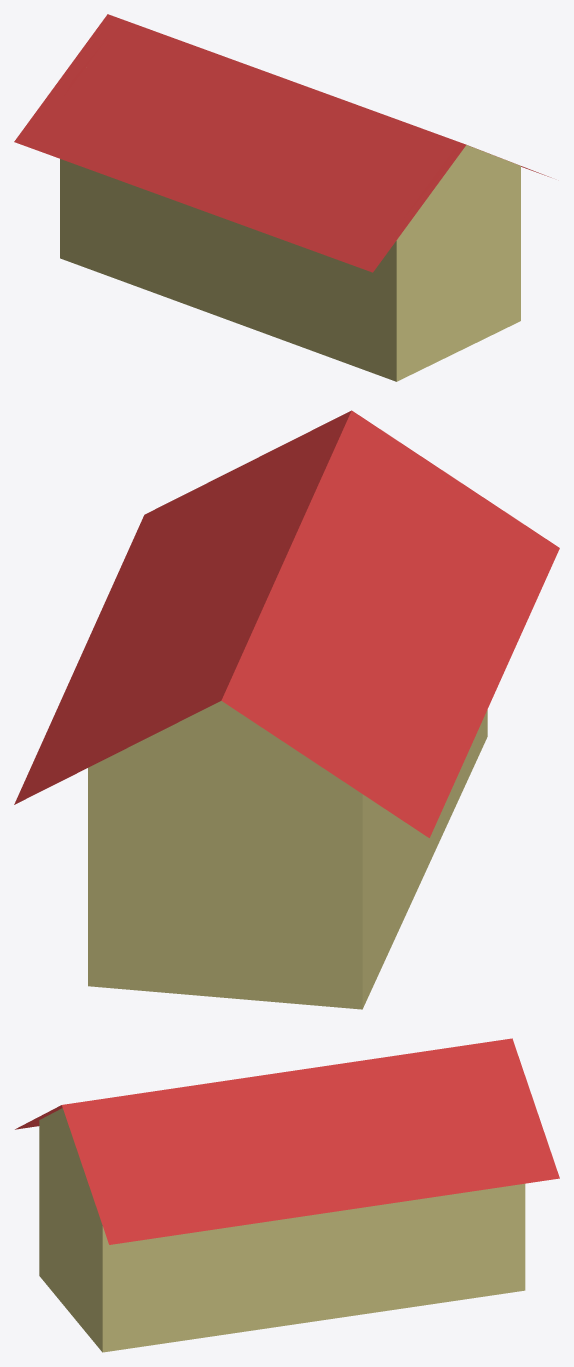
3 views of the same model, one above another, from view 1: azimuth 30°, elevation 25°; view 2: azimuth 150°, elevation 25°; view 3: azimuth 270°, elevation 25° (orthographic). The views are drawn at different scales.
Bounding box in the file's own units: 21.14 × 26.83 × 11.44.
